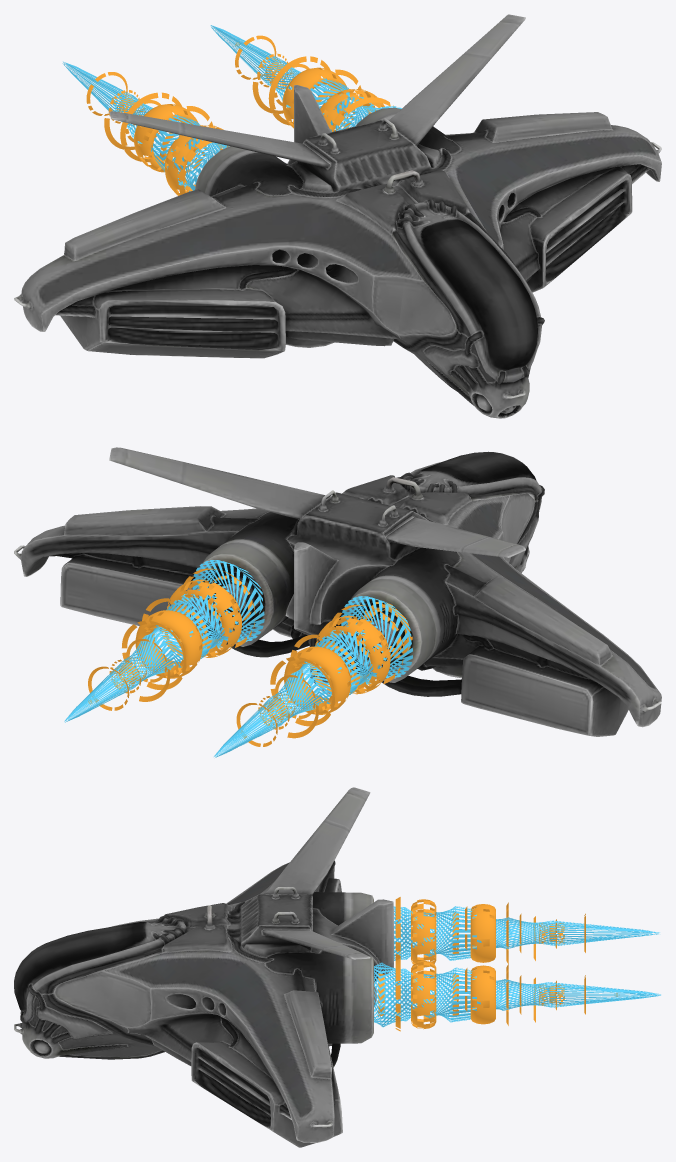
Rendered from spaceshipCompressed.glb.
The picture shows the model from 3 angles, top to bottom: view 1: azimuth 30°, elevation 25°; view 2: azimuth 150°, elevation 25°; view 3: azimuth 270°, elevation 25°; orthographic projection. The views are drawn at different scales.
Visible parts, largest first — view 1: Ship, Torus.002, Circle, Torus.006, Circle.001, Torus.003, Torus.005; view 2: Ship, Circle.001, Circle, Torus.002, Torus.006, Torus.003, Torus.005; view 3: Ship, Circle.001, Circle, Torus.005, Torus.002, Torus.006, Torus.003.
Boxes of the visible parts, <box> form: Ship: <box>14,14,661,418</box>; Torus.002: <box>86,72,213,172</box>; Circle: <box>62,61,229,191</box>; Torus.006: <box>235,35,361,131</box>; Circle.001: <box>210,25,401,131</box>; Torus.003: <box>160,125,229,195</box>; Torus.005: <box>316,88,393,131</box>; Ship: <box>14,447,661,736</box>; Circle.001: <box>64,560,264,722</box>; Circle: <box>214,596,412,757</box>; Torus.002: <box>236,634,351,746</box>; Torus.006: <box>88,598,203,710</box>; Torus.003: <box>310,604,403,694</box>; Torus.005: <box>161,568,255,657</box>; Ship: <box>14,787,393,1147</box>; Circle.001: <box>374,962,660,1027</box>; Circle: <box>393,906,659,960</box>; Torus.005: <box>378,958,458,1031</box>; Torus.002: <box>457,902,585,963</box>; Torus.006: <box>457,964,585,1025</box>; Torus.003: <box>395,897,458,967</box>.
Bounding box in the file's own units: 9.55 × 3.1 × 9.83.
3 materials, 3 textured.
